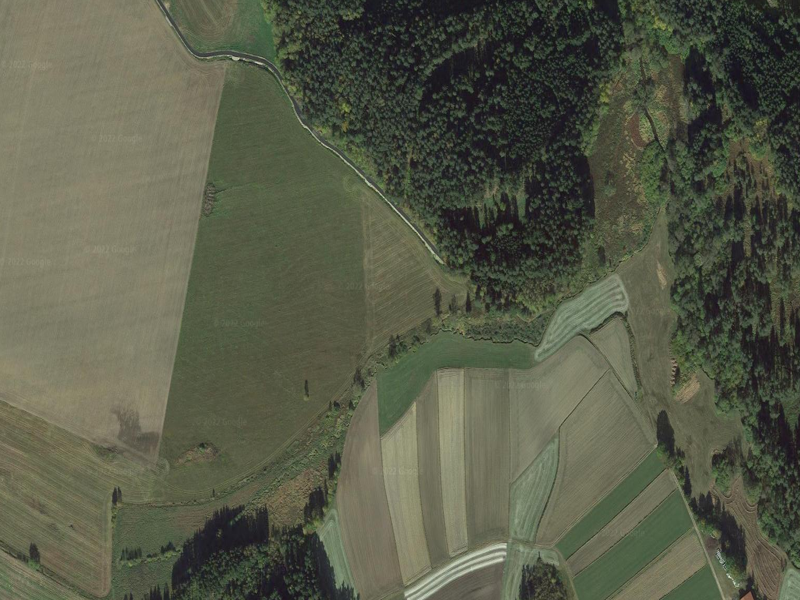field: (465, 368, 511, 551)
